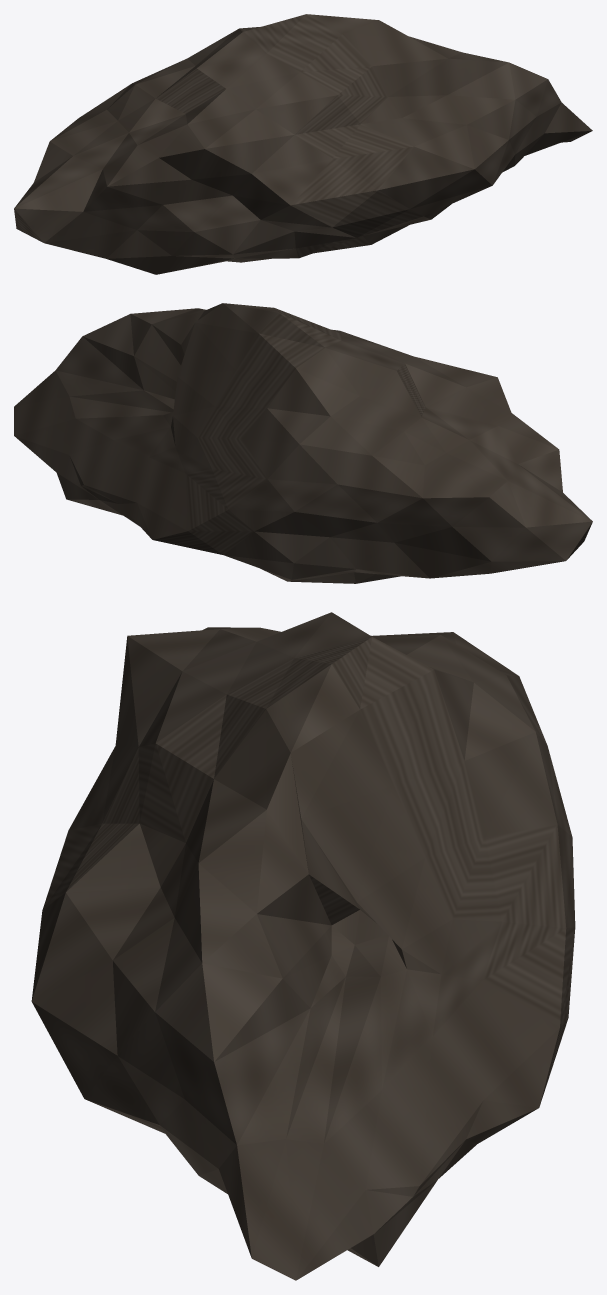
File: asteroid_elongated.glb
3 renders of one model, top to bottom at view 1: azimuth 30°, elevation 25°; view 2: azimuth 150°, elevation 25°; view 3: azimuth 270°, elevation 25°, orthographic. The views are drawn at different scales.
Visible parts, largest first — view 1: asteroid_elongated; view 2: asteroid_elongated; view 3: asteroid_elongated.
Boxes of the visible parts, x1,y1,x2,y2 form: asteroid_elongated: [14, 14, 592, 274]; asteroid_elongated: [14, 303, 592, 583]; asteroid_elongated: [31, 612, 575, 1280].
Size of the model in its own units: 8 by 3.24 by 3.37.
1 material, 1 textured.
